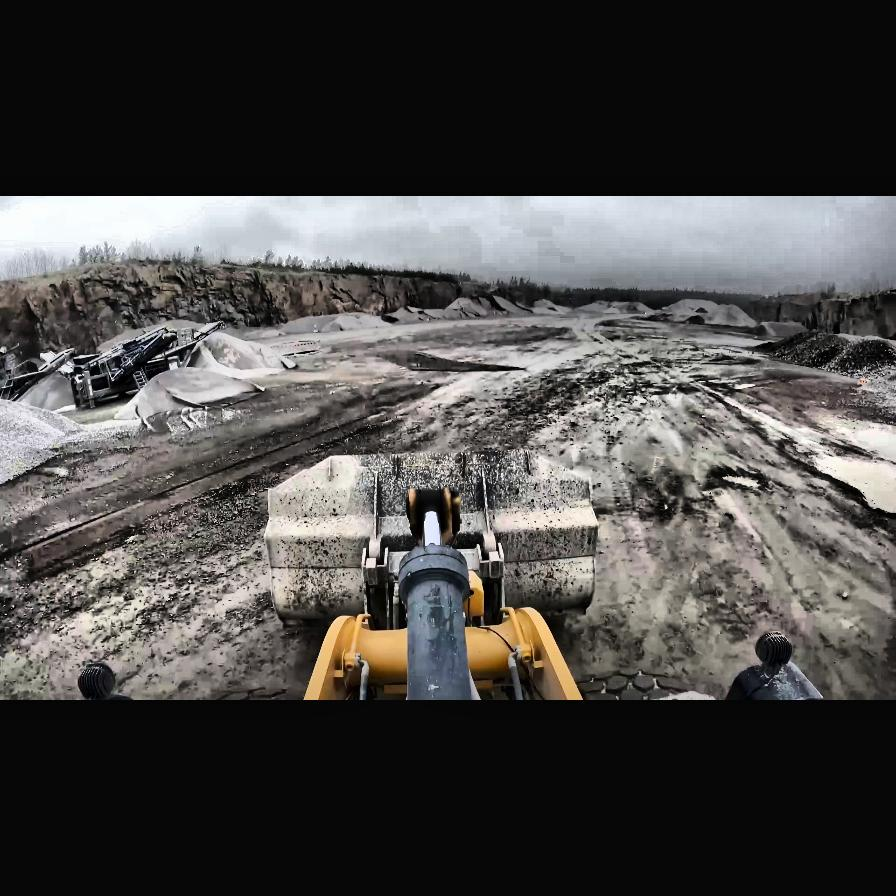anchor: (407, 487, 459, 545)
pile of gravel: (111, 330, 295, 433), (1, 389, 81, 489), (744, 331, 896, 383), (188, 331, 296, 373), (90, 321, 196, 355), (14, 369, 80, 413), (439, 295, 531, 324), (57, 422, 139, 454), (326, 313, 388, 331), (382, 305, 438, 323), (758, 320, 808, 338), (653, 311, 700, 323), (532, 298, 566, 314), (620, 302, 652, 314), (604, 307, 620, 313), (696, 308, 708, 312)
